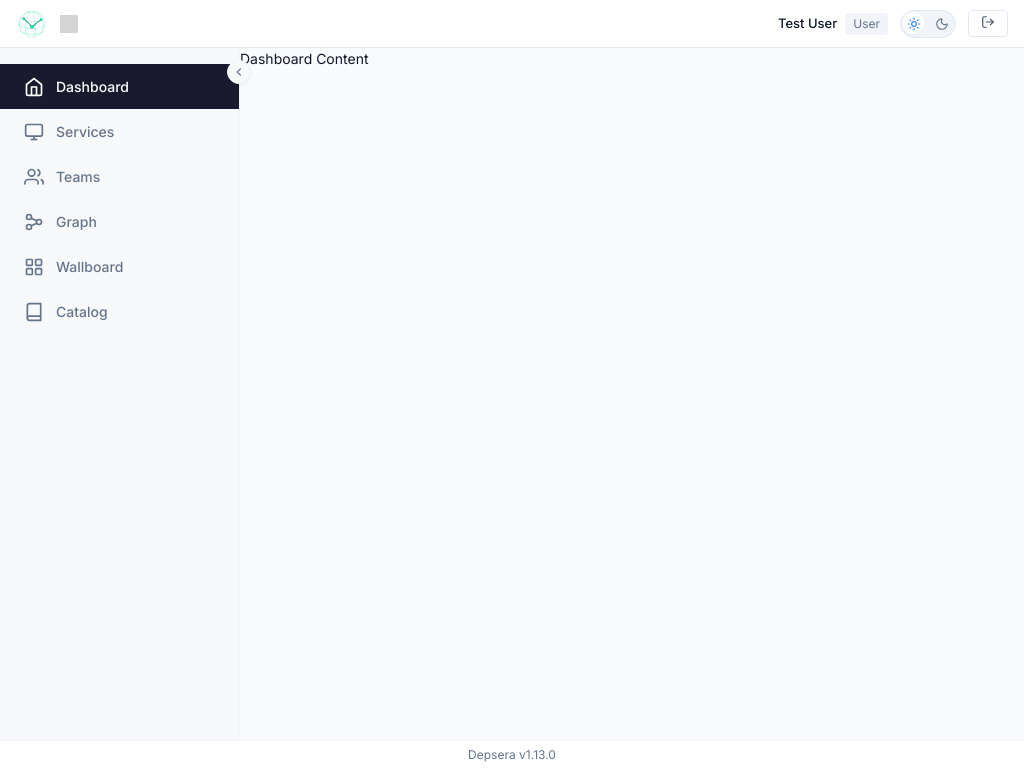
it: Layout › toggles sidebar collapse state
Expected: the text "Test User" is shown, [778,14,837,33]
Click the button named "Collapse sidebar": (239, 72) [227,60,251,84]
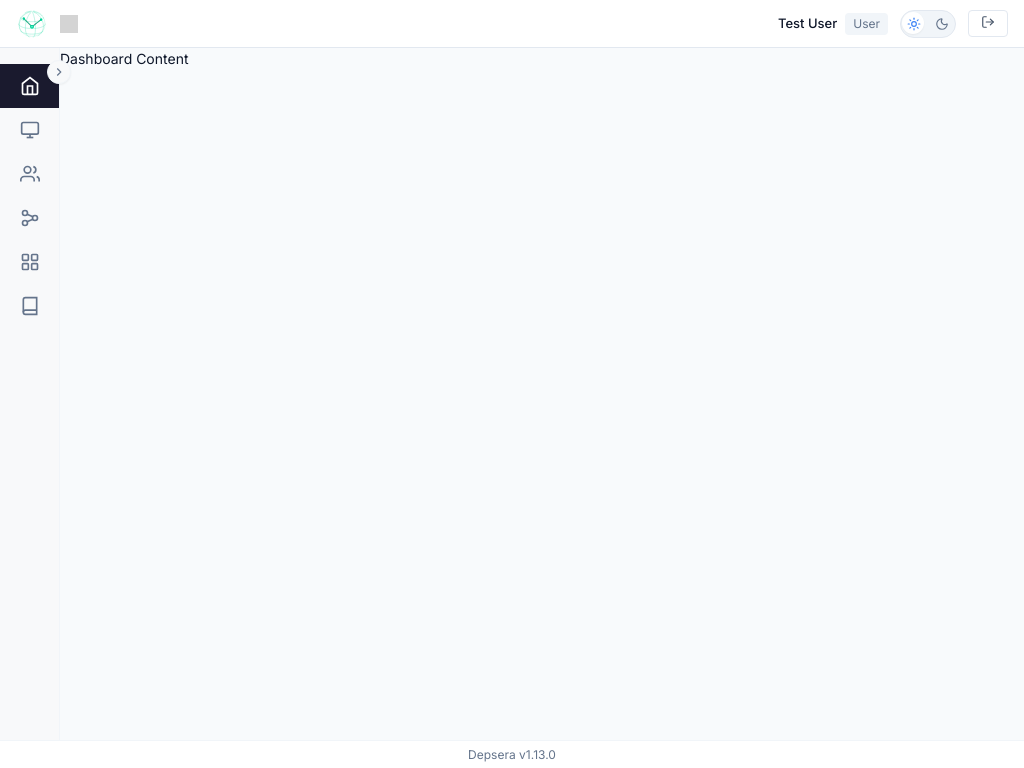
Now the button named "Expand sidebar" is shown, box [47,60,71,84]
